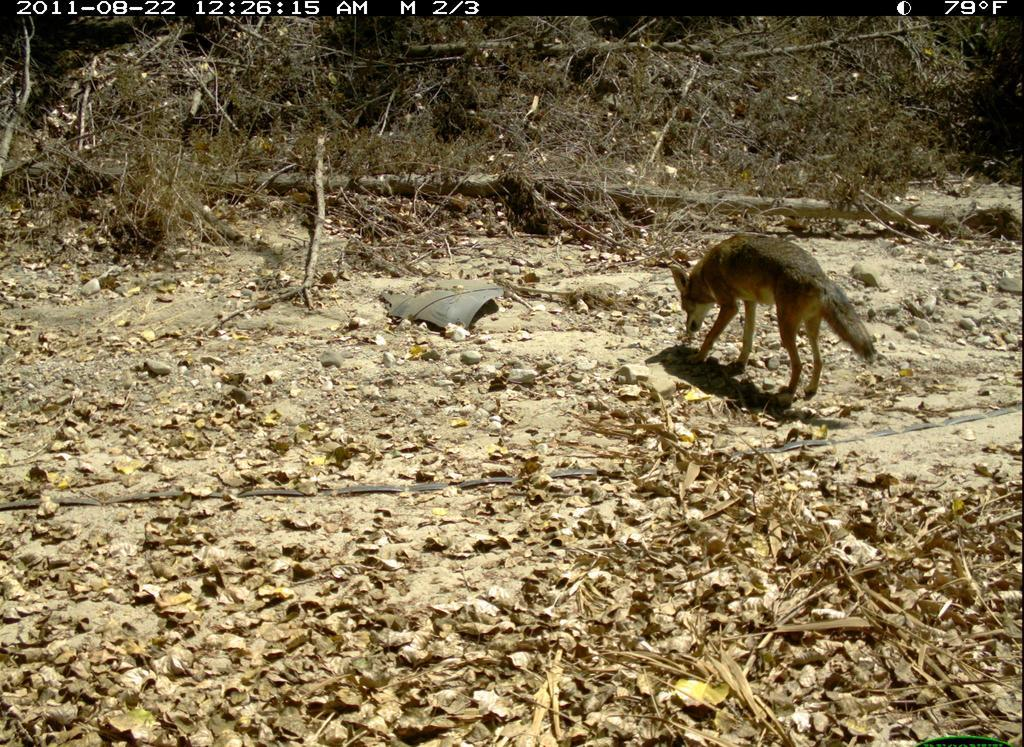coyote: (656, 221, 881, 411)
